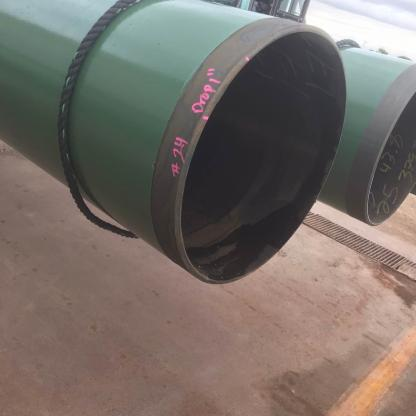Bevel: (214, 78, 231, 106)
